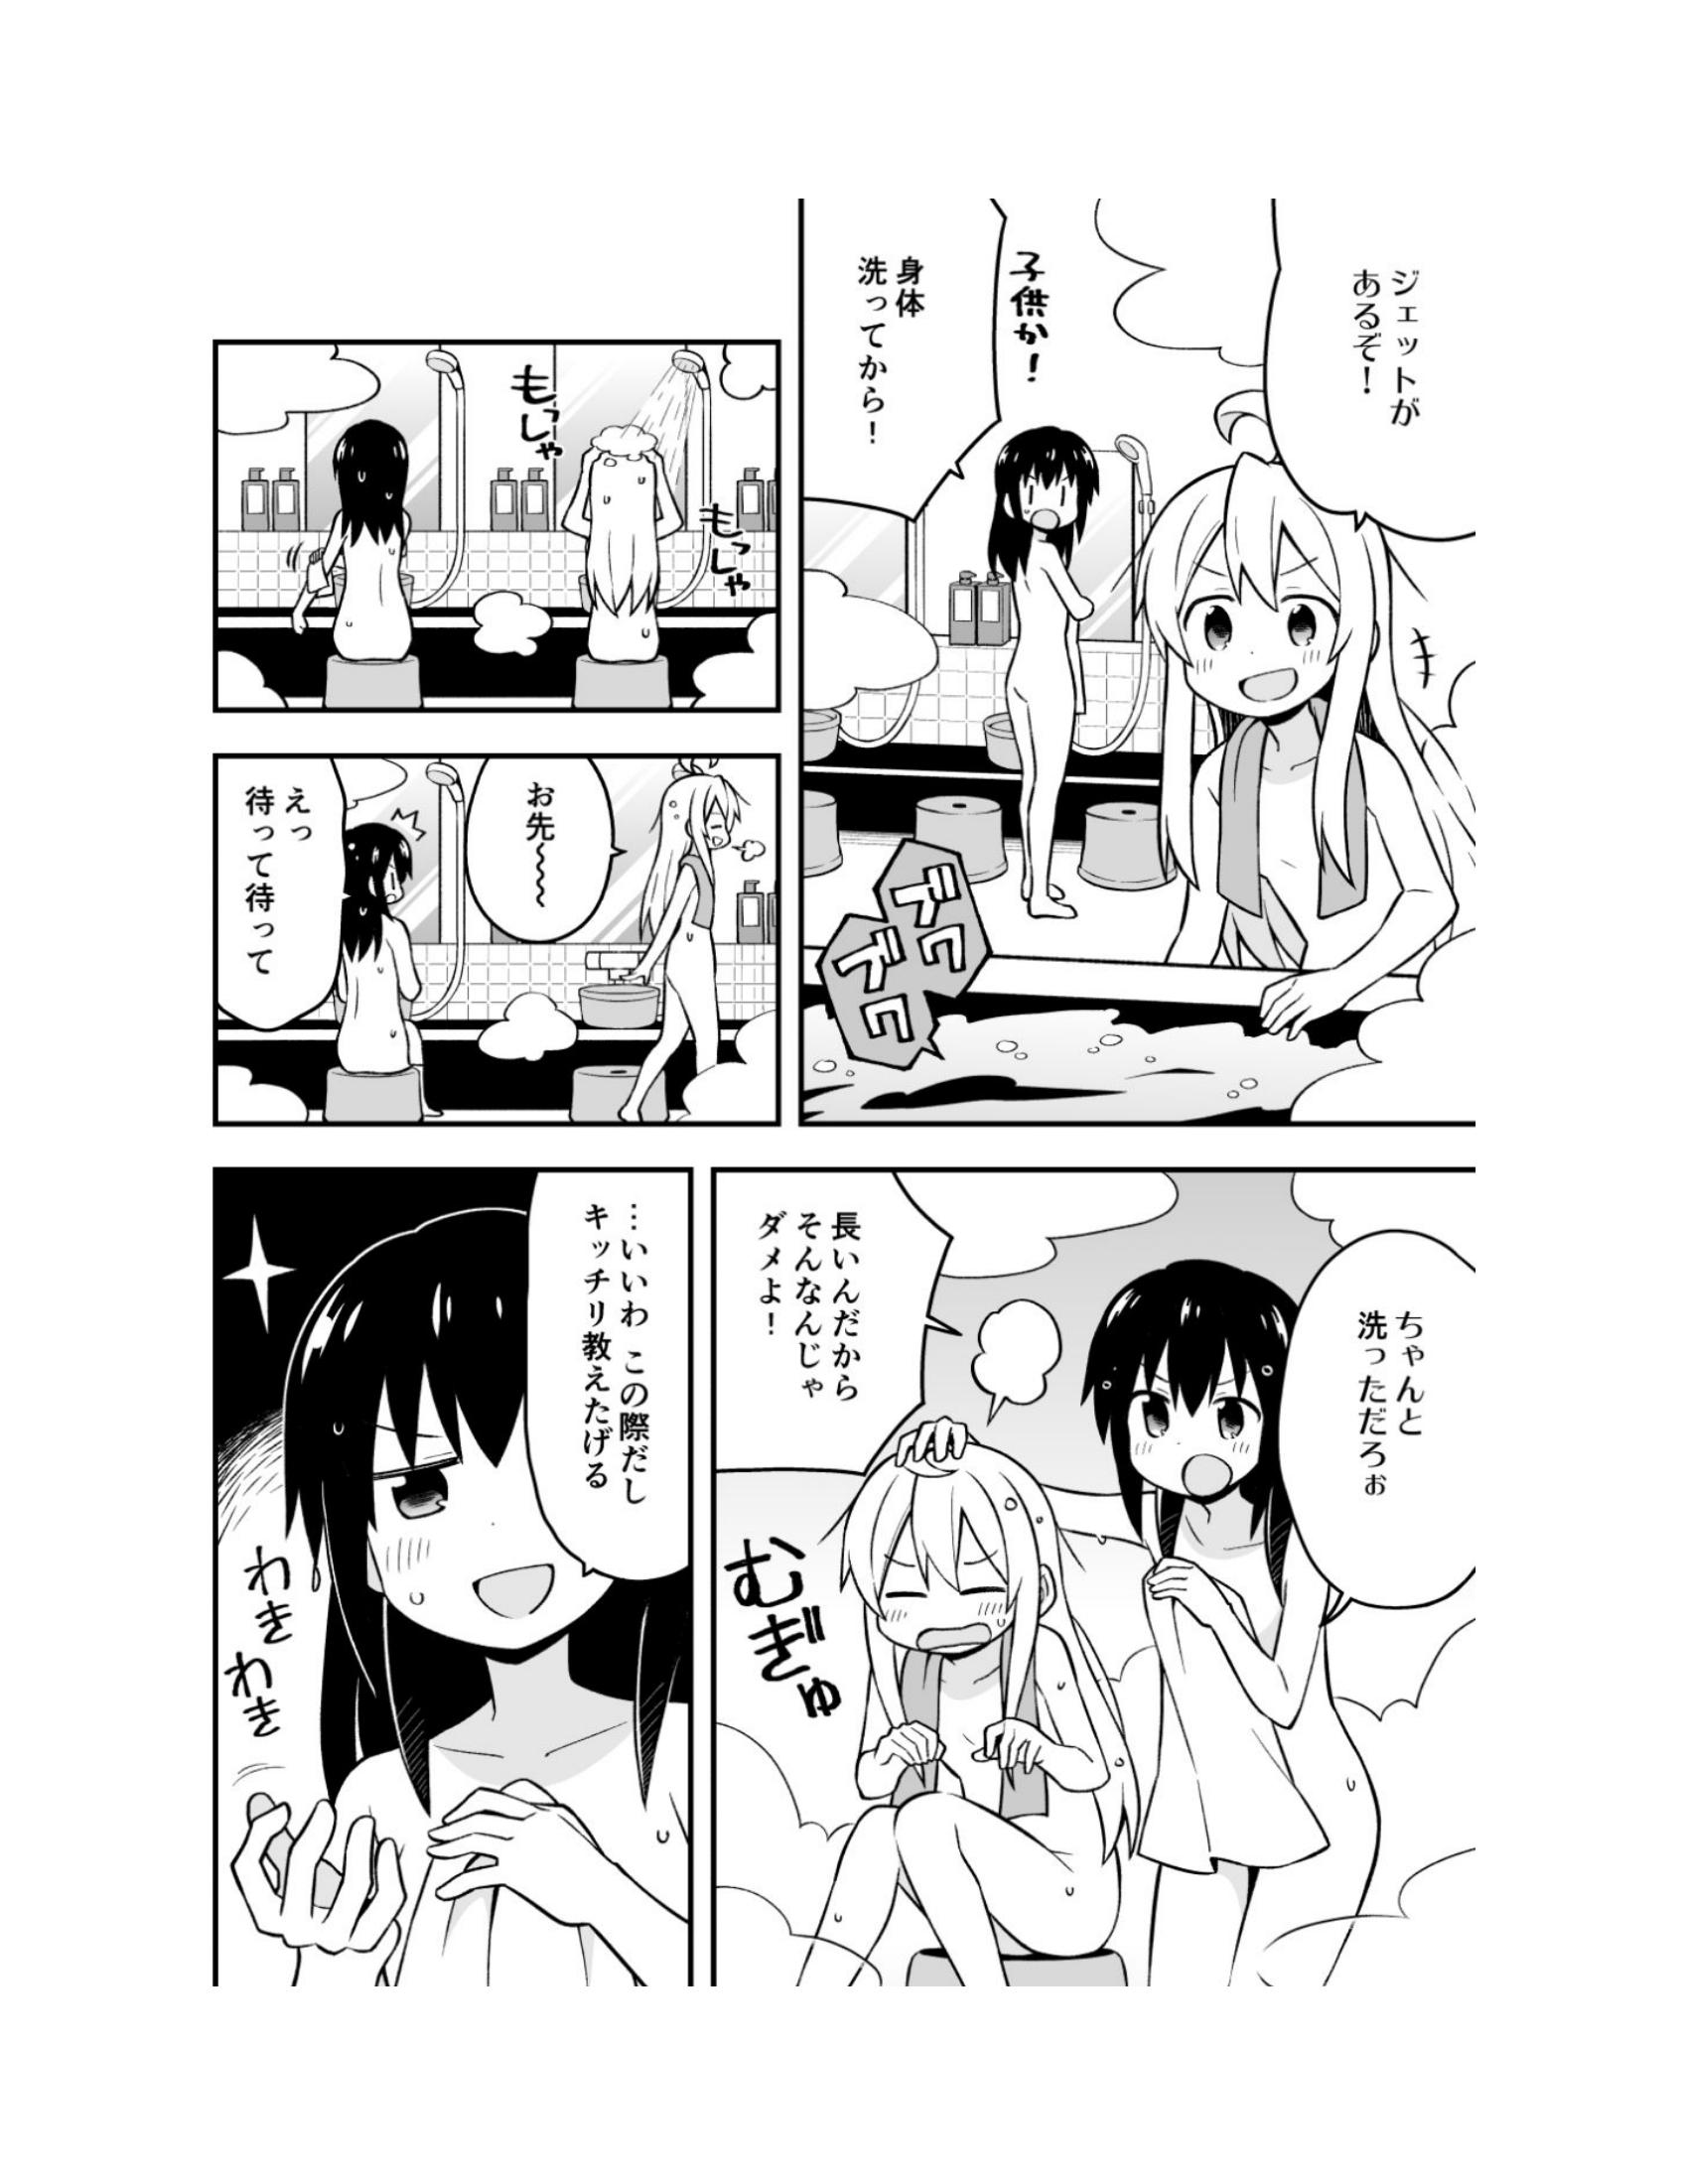a: (1287, 1236, 1527, 1626), (514, 1150, 709, 1585), (702, 1135, 957, 1454), (789, 191, 1028, 505), (1284, 202, 1479, 542), (220, 1521, 395, 1824), (215, 737, 362, 1041), (463, 716, 651, 940)
